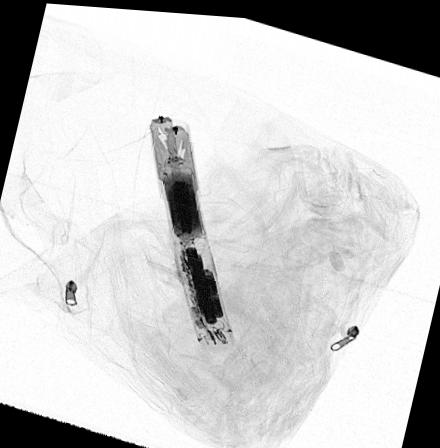Baton: (148, 113, 235, 347)
